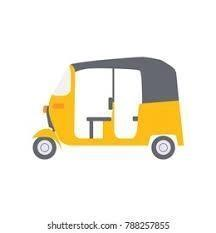keke: (32, 57, 186, 174)
